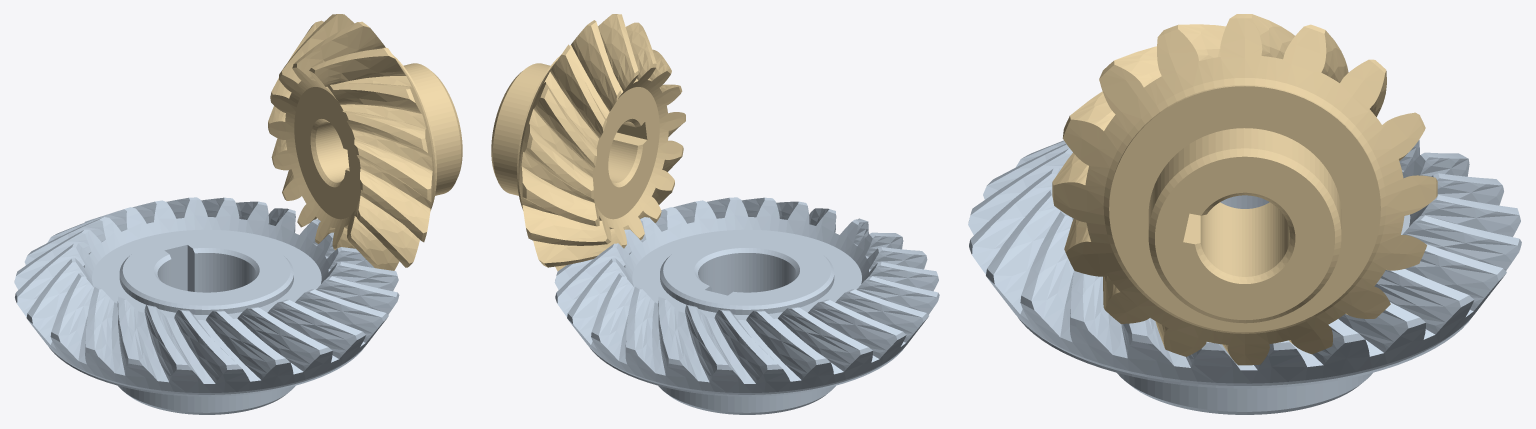
File: t2_spiral_bevel_gear_agy.glb
3 renders of one model, left to right at view 1: azimuth 30°, elevation 25°; view 2: azimuth 150°, elevation 25°; view 3: azimuth 270°, elevation 25°, orthographic. The views are drawn at different scales.
Visible parts, largest first — view 1: gear, pinion; view 2: gear, pinion; view 3: pinion, gear.
Boxes of the visible parts, x1=… form: gear: x1=14, y1=197, x2=399, y2=414; pinion: x1=268, y1=14, x2=462, y2=270; gear: x1=554, y1=197, x2=939, y2=414; pinion: x1=491, y1=14, x2=685, y2=271; pinion: x1=1052, y1=14, x2=1437, y2=365; gear: x1=968, y1=140, x2=1521, y2=414.
Bounding box in the file's own units: 0.1011 × 0.078 × 0.0861.
